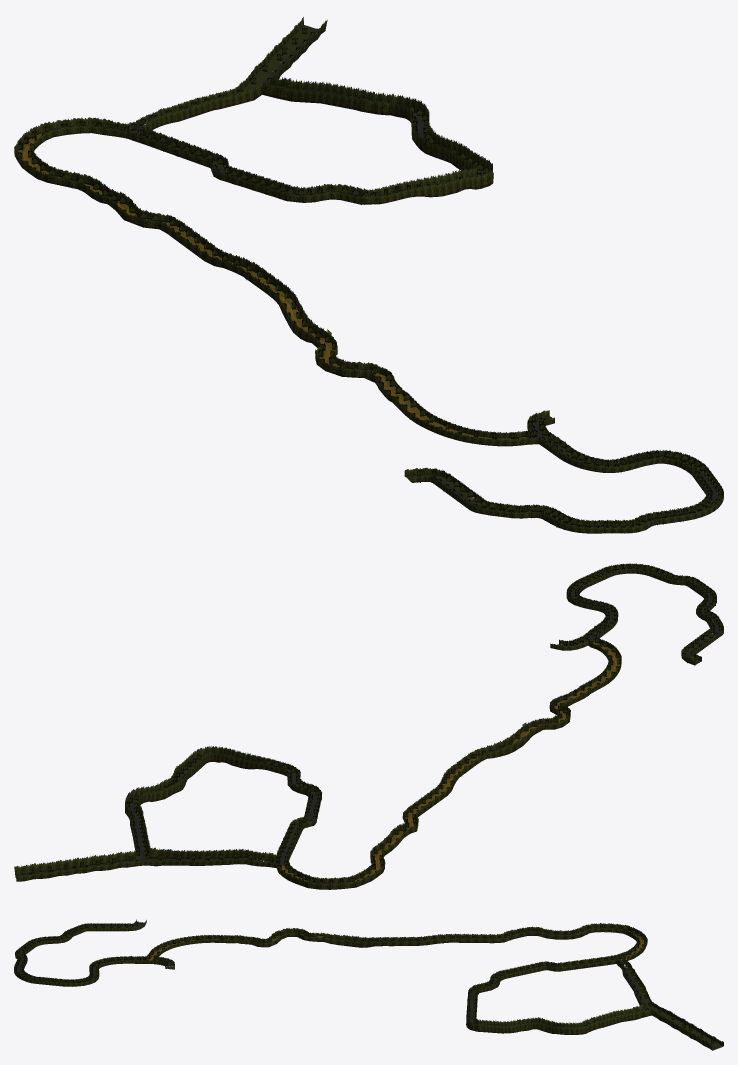
Rendered from stage1.fbx.
3 views of the same model, one above another, from view 1: azimuth 30°, elevation 25°; view 2: azimuth 150°, elevation 25°; view 3: azimuth 270°, elevation 25° (orthographic). The views are drawn at different scales.
Parts seen in each view (by area): view 1: grassntrees, tarmac; view 2: grassntrees, tarmac, sand; view 3: grassntrees, tarmac.
Boxes of the visible parts, box(x1,y1,x2,y2) form: grassntrees: box(14, 17, 723, 533); tarmac: box(132, 28, 717, 524); grassntrees: box(14, 563, 723, 889); tarmac: box(15, 574, 719, 878); sand: box(281, 642, 616, 876); grassntrees: box(14, 919, 723, 1050); tarmac: box(17, 922, 717, 1049).
Size of the model in its own units: 116935 by 10684 by 299715.
